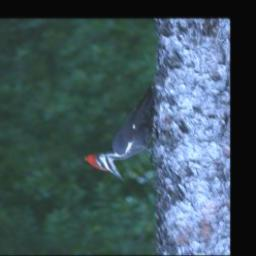Woodpecker: (86, 82, 160, 185)
